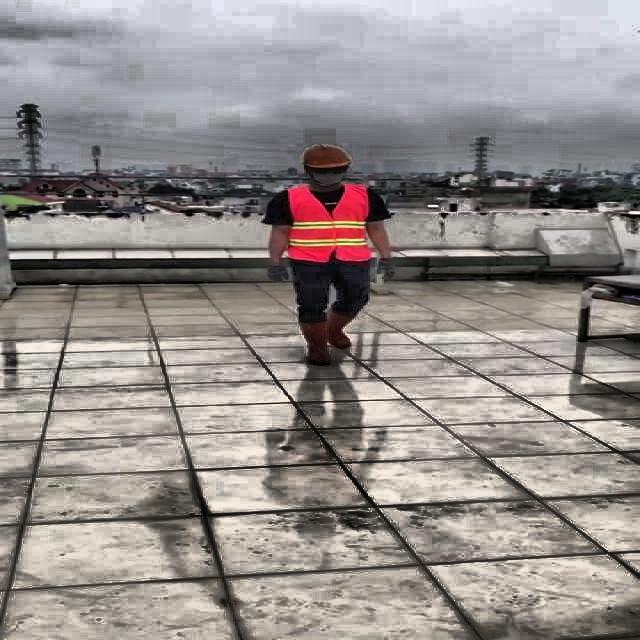safety_helmet: (298, 144, 352, 172)
safety_jacket: (290, 186, 373, 262)
